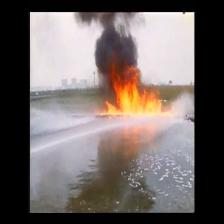fire: (98, 54, 172, 116)
